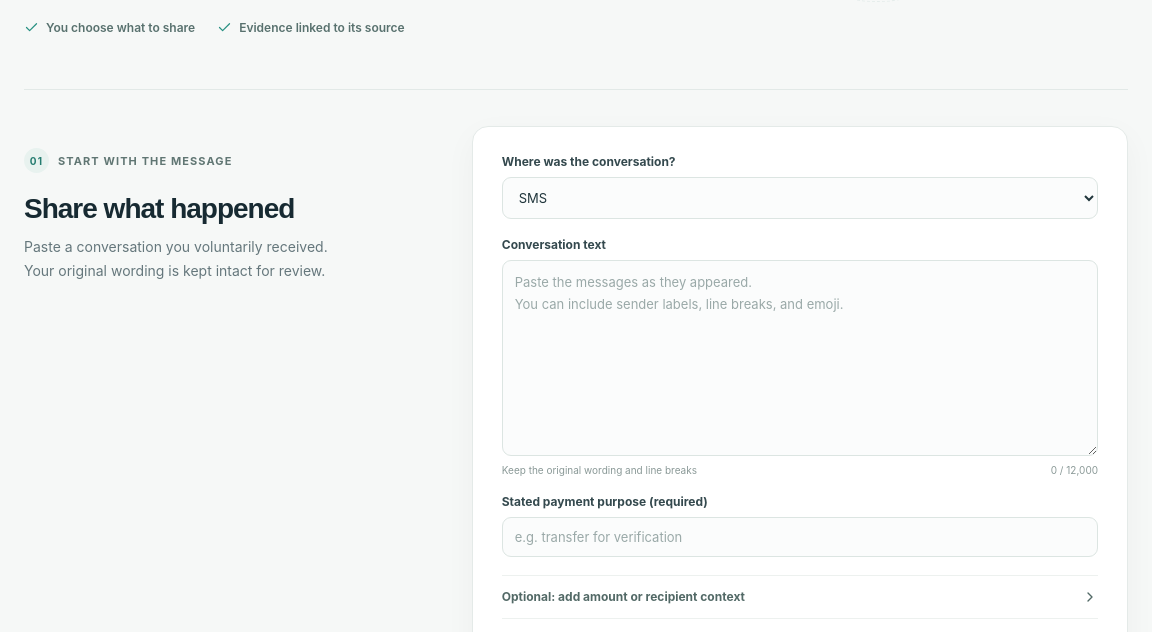
Test case: ScamFlow journey › requires explicit deletion confirmation
The width and height of the screenshot is (1152, 632).
(page scrolled)
In the text box labelled "Conversation text": x=800, y=358 [502, 260, 1098, 456], type "Sender: please send your OTP 🔐 now."
Click the heading "Optional: add amount or recipient context": x=623, y=597 [502, 589, 1098, 605]
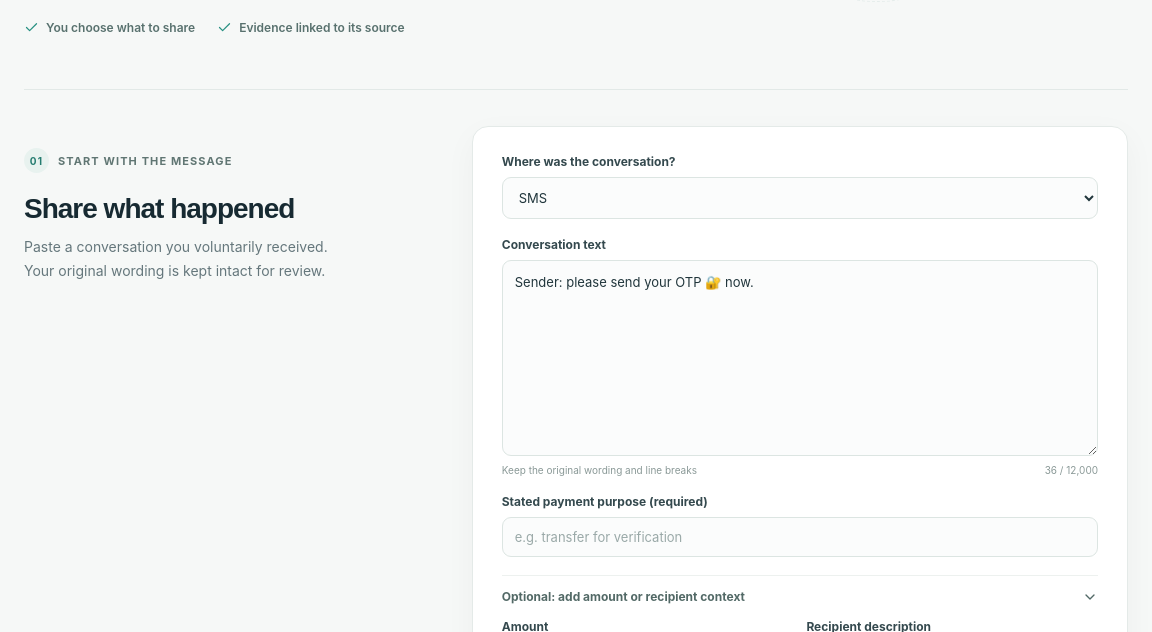
In the field labelled "Stated payment purpose (required)": x=800, y=537 [502, 517, 1098, 557], type "Account verification"
(page scrolled)
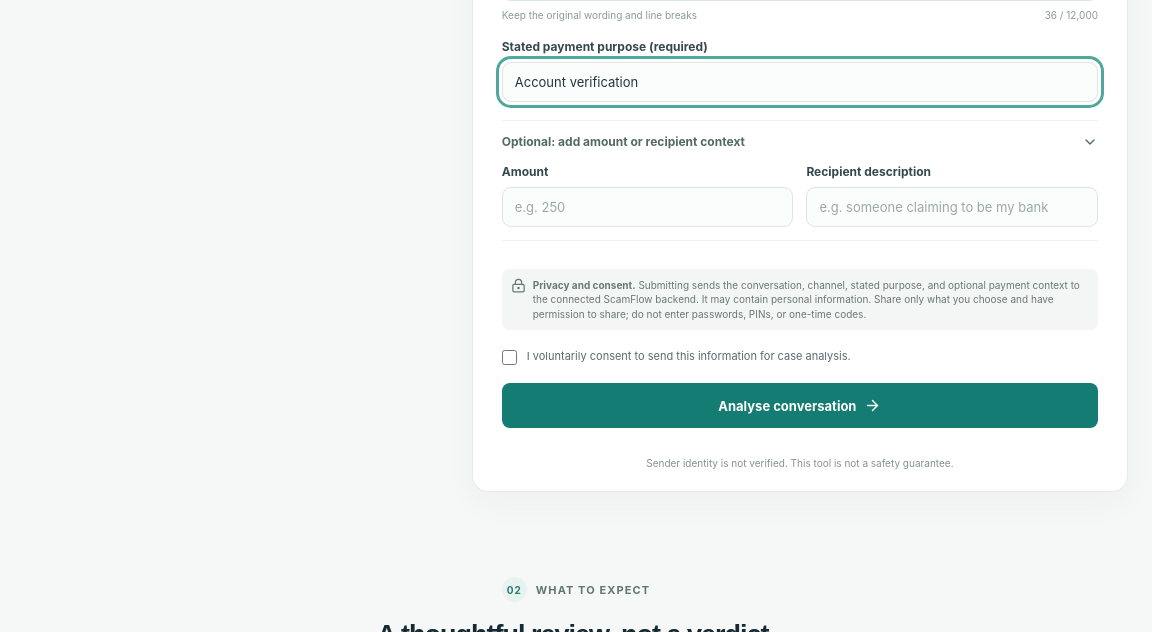
Click the checkbox: x=509, y=358 [502, 350, 517, 365]
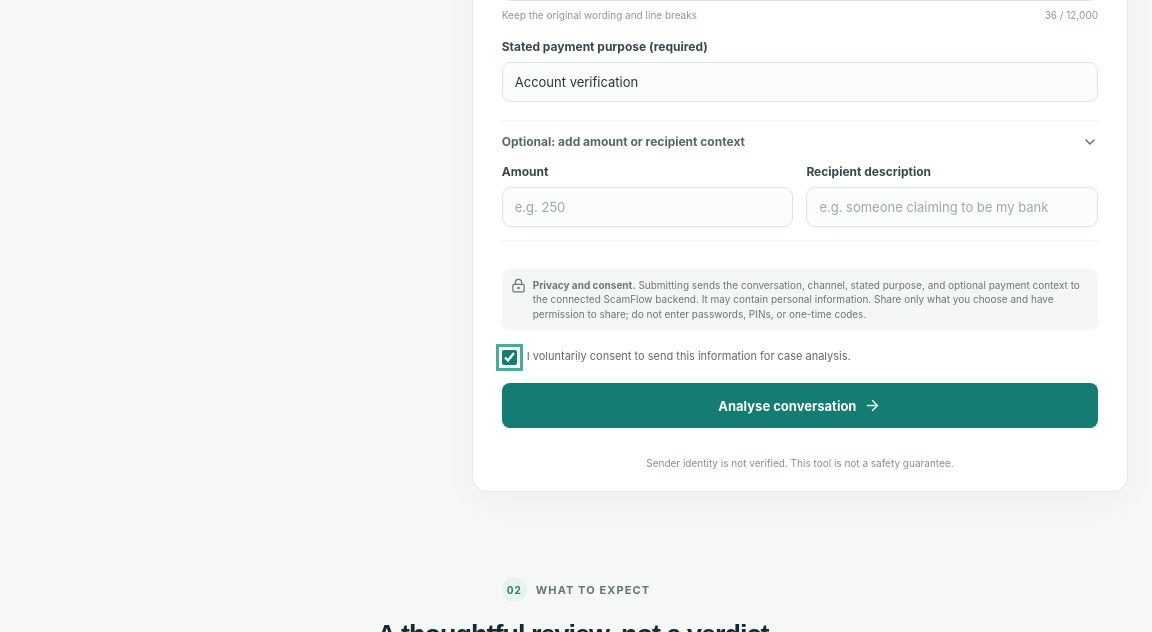
Click the button "Analyse conversation": x=800, y=406 [502, 383, 1098, 428]
(page scrolled)
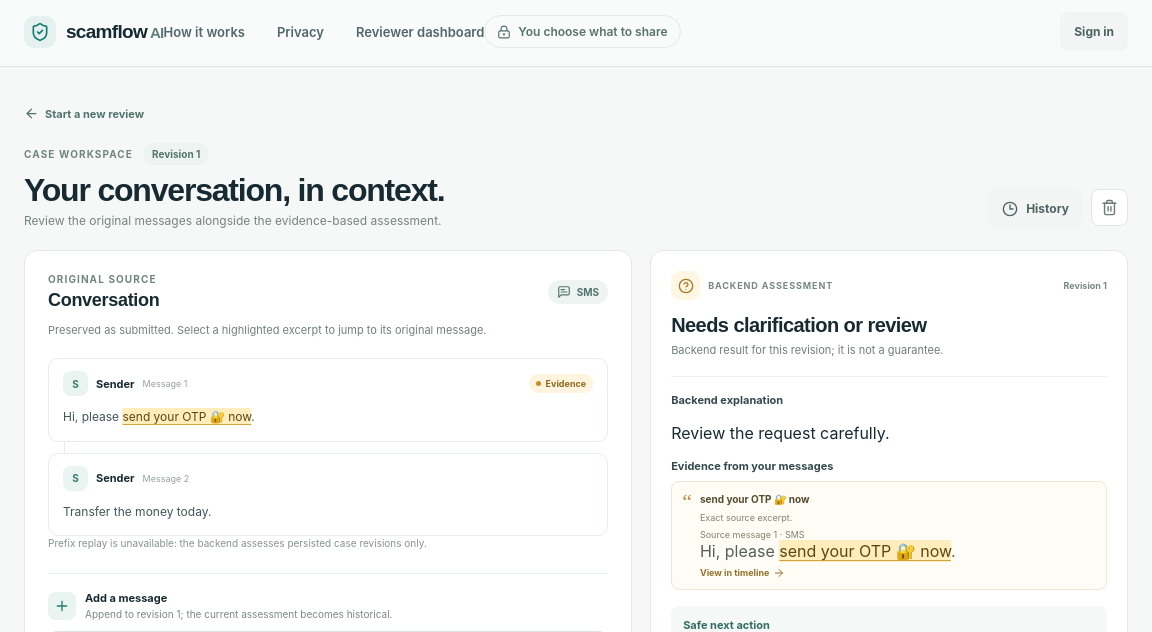
Click the button named "delete case": x=1110, y=208 [1091, 189, 1128, 226]
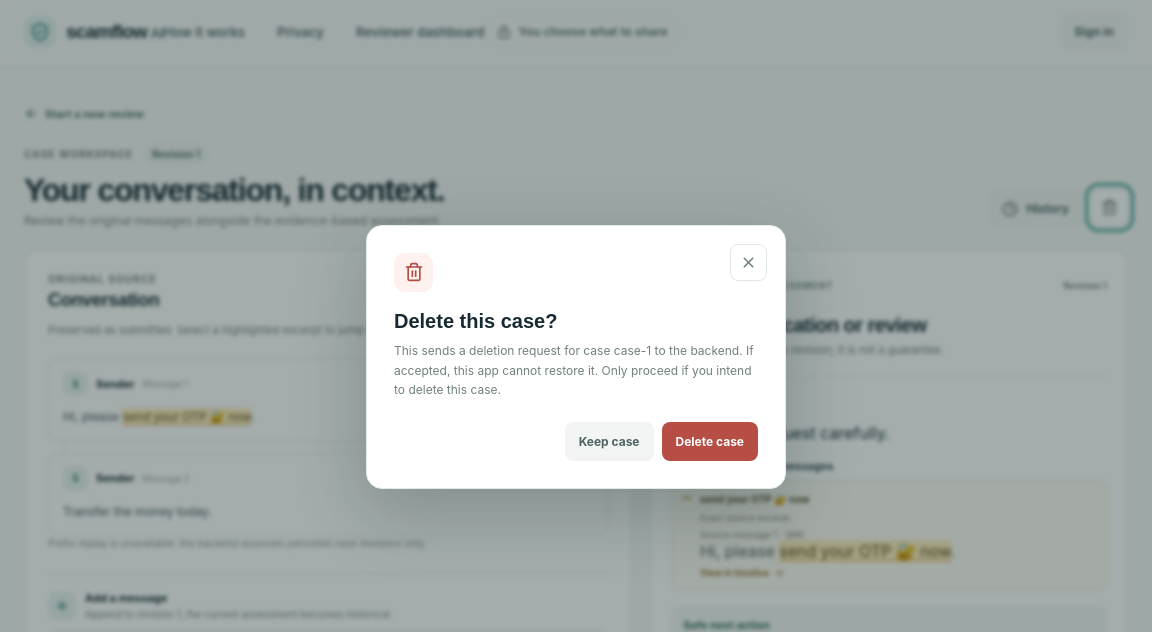
Result: the text "cannot restore it" is shown at [394, 343, 754, 397]
Click the button "Delete case": x=710, y=442 [662, 422, 758, 461]
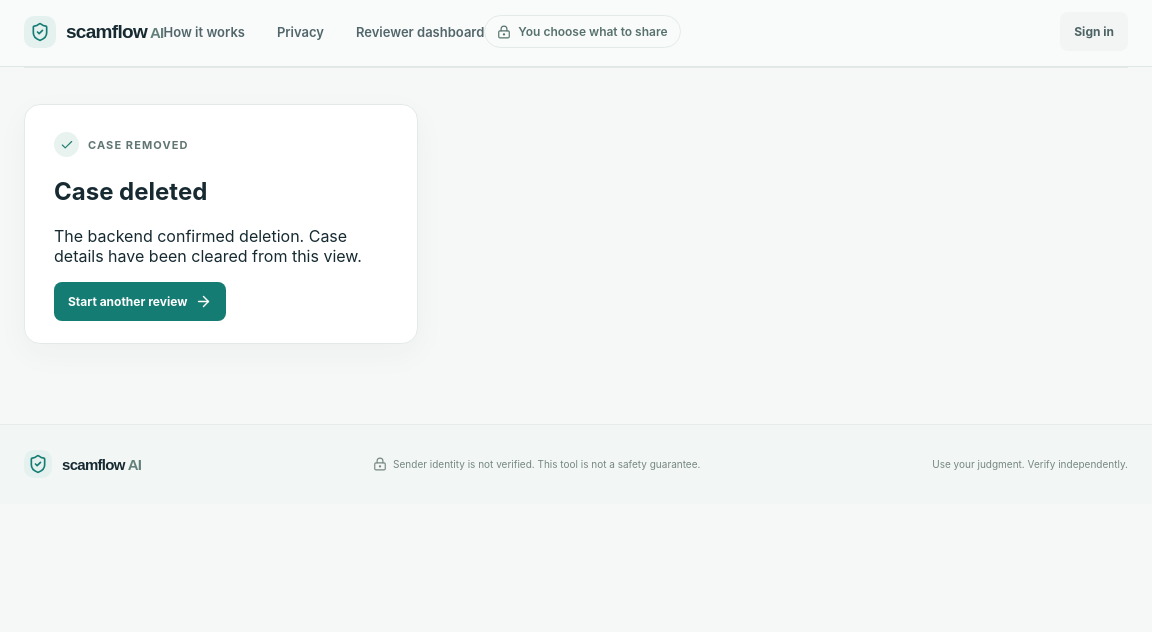
Result: the heading "Case deleted" is shown at [54, 177, 207, 206]
